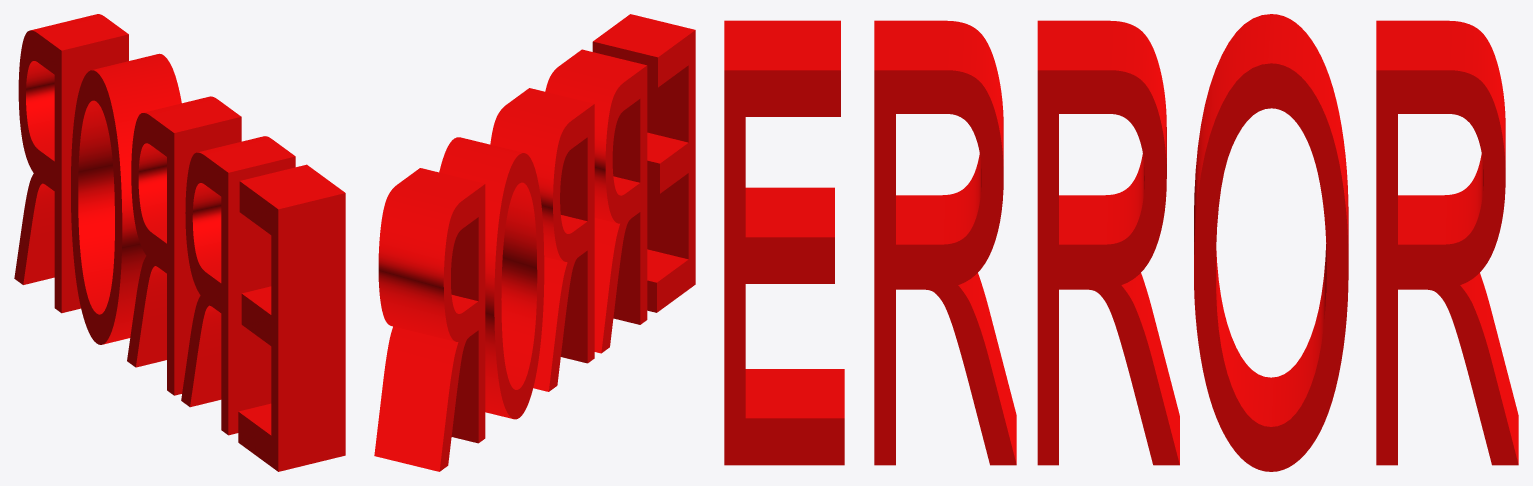
The model's file is error.glb.
The picture shows the model from 3 angles, left to right: view 1: azimuth 30°, elevation 25°; view 2: azimuth 150°, elevation 25°; view 3: azimuth 270°, elevation 25°; orthographic projection. The views are drawn at different scales.
Parts seen in each view (by area): view 1: error.mdl/waypoint_0; view 2: error.mdl/waypoint_0; view 3: error.mdl/waypoint_0.
Boxes of the visible parts, x1,y1,x2,y2 form: error.mdl/waypoint_0: (14,14,345,471); error.mdl/waypoint_0: (374,14,695,471); error.mdl/waypoint_0: (724,14,1518,471).
Size of the model in its own units: 0.1215 by 0.4687 by 0.8259.
